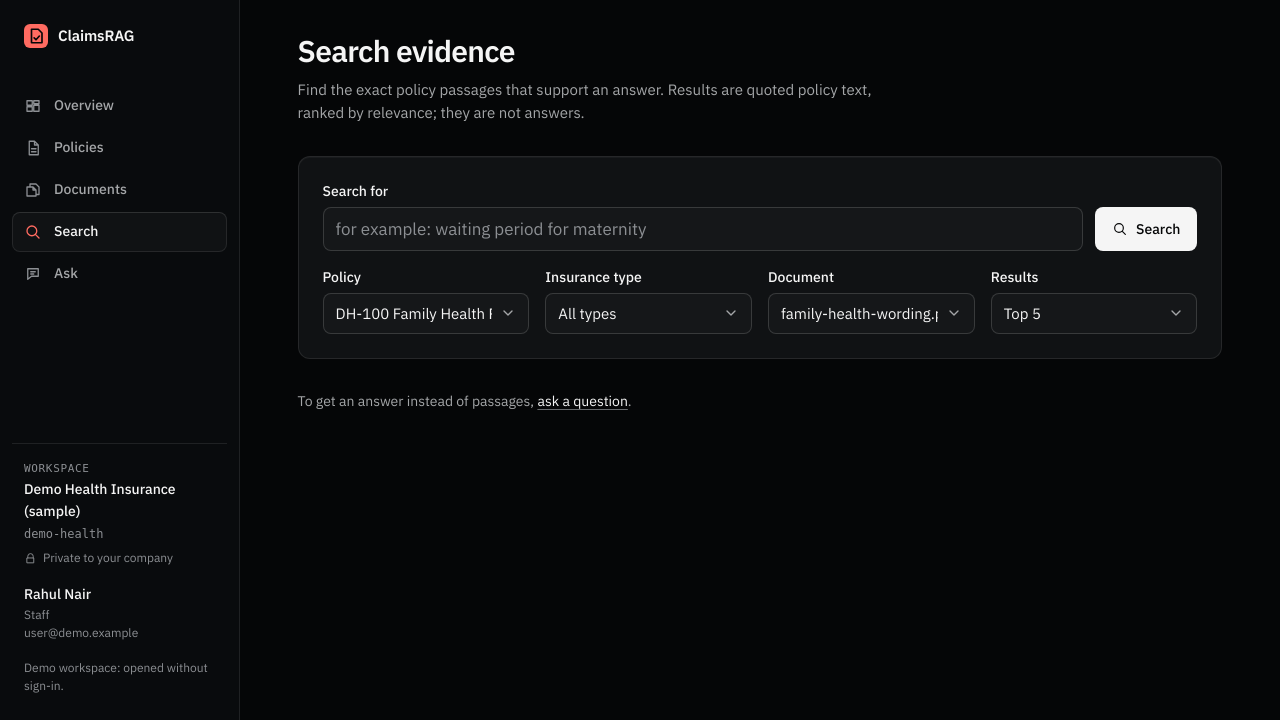
Test: evidence search › starts from the policy and document a document page links with
Type "ambulance" into the search field labelled "Search for" at x=703, y=229, box [323, 207, 1083, 251]
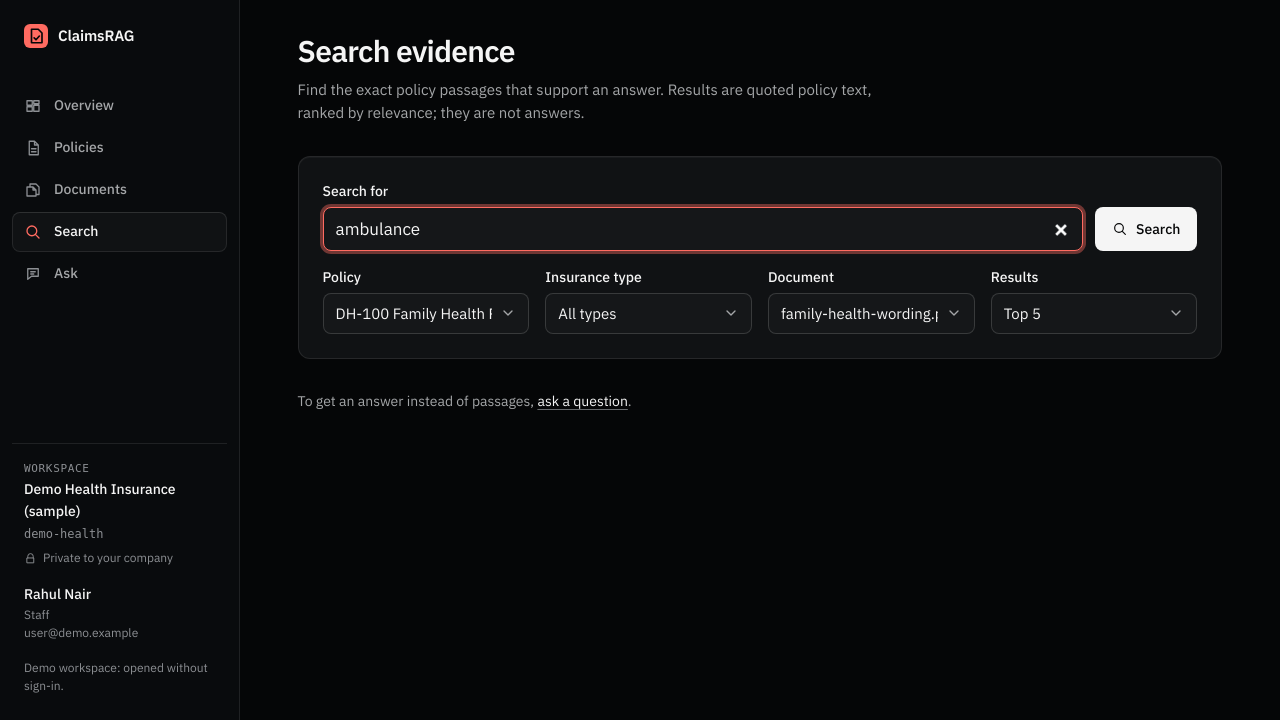
Click the button "Search" at x=1146, y=229, box [1095, 207, 1197, 251]
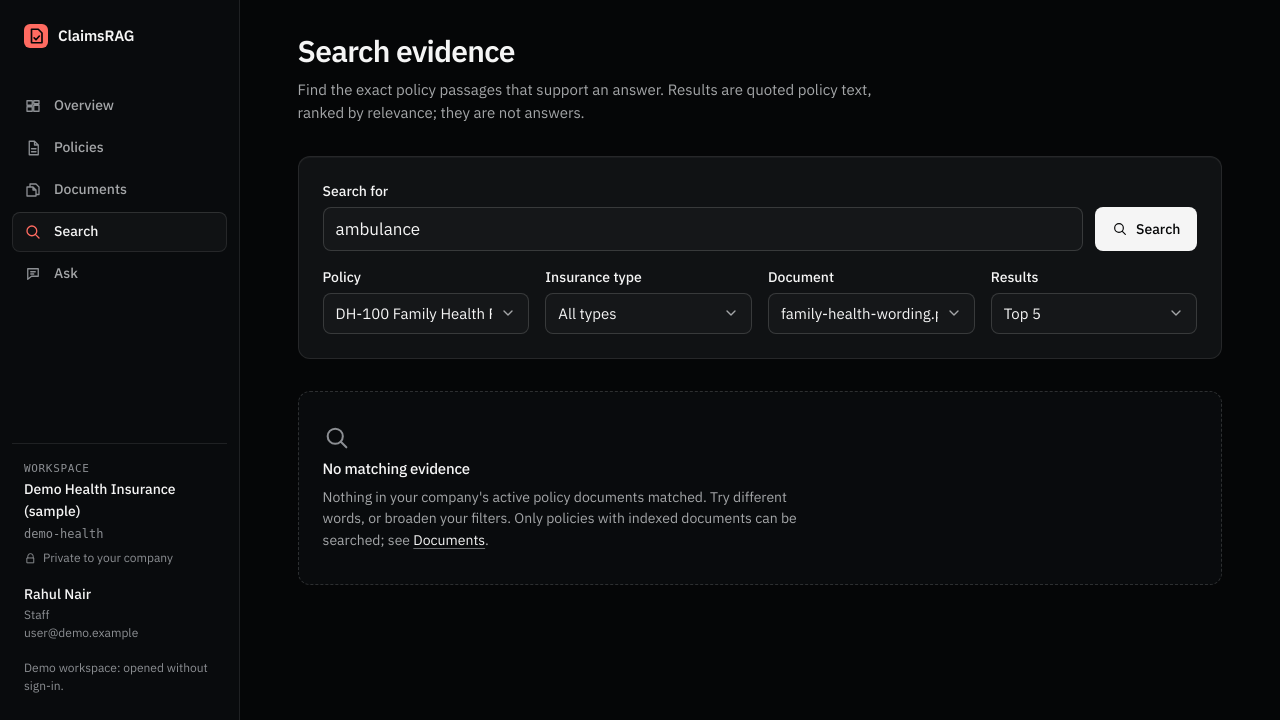
Check: the heading "No matching evidence" is shown, box [323, 460, 470, 479]
